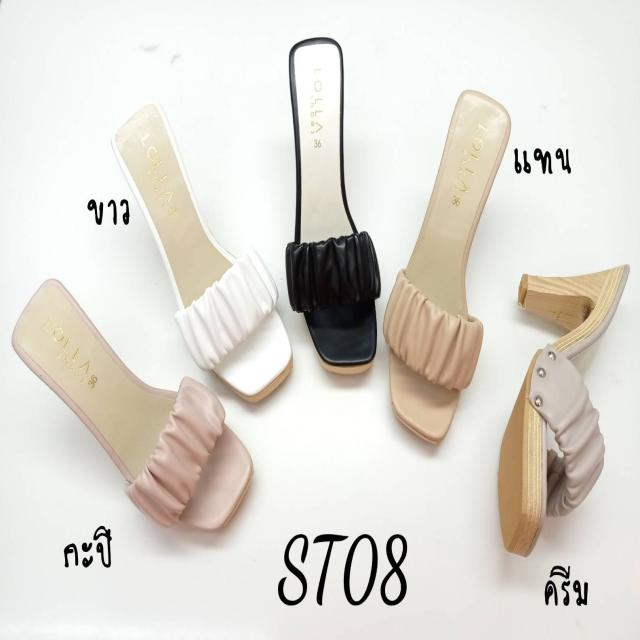black: (287, 44, 381, 376)
cream: (504, 267, 622, 544)
kapi: (15, 279, 253, 546)
tan: (393, 81, 507, 446)
white: (114, 101, 285, 405)
